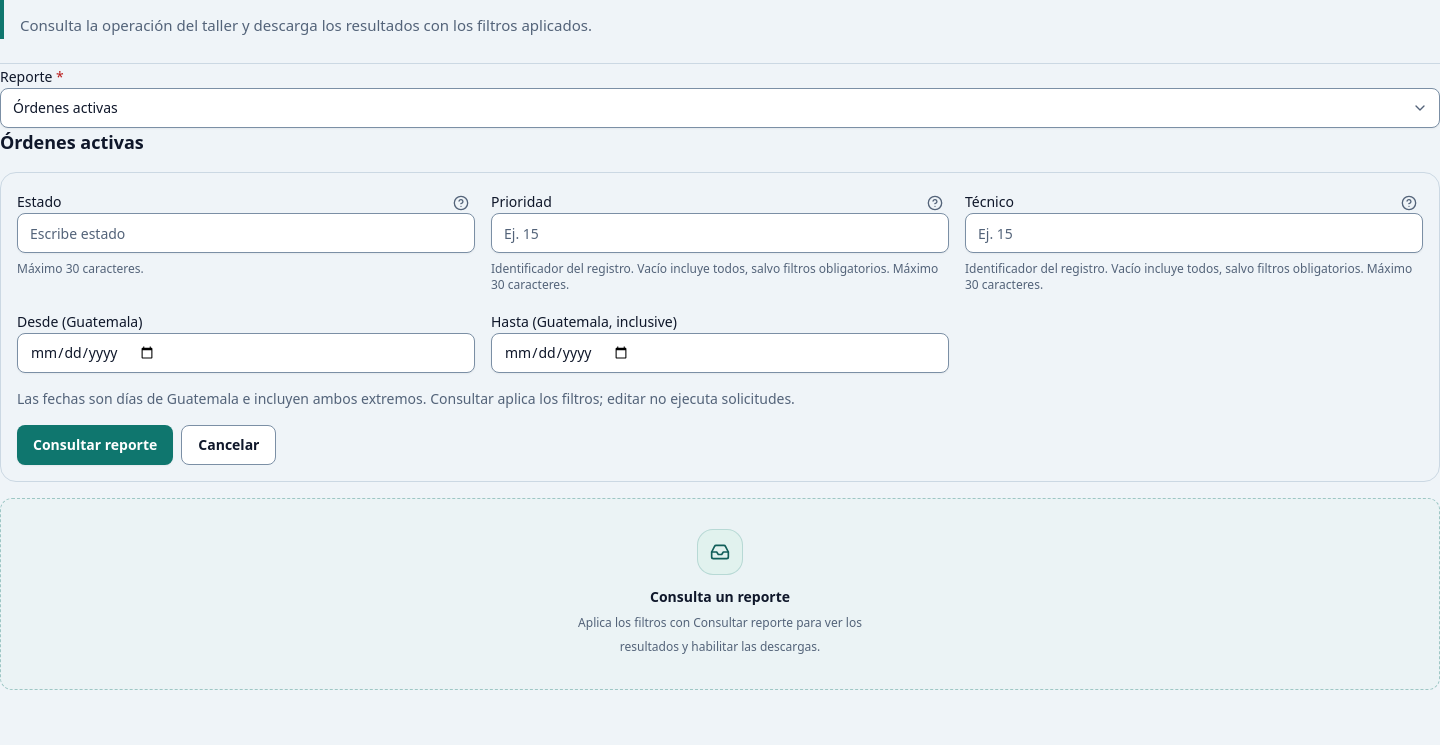
reportes conectados › conserva las relaciones anidadas reales de historial-cliente sin search
This screenshot has width=1440, height=745.
Select "Historial del cliente" in the dropdown labelled "Reporte *": (720, 108) [0,88,1439,128]
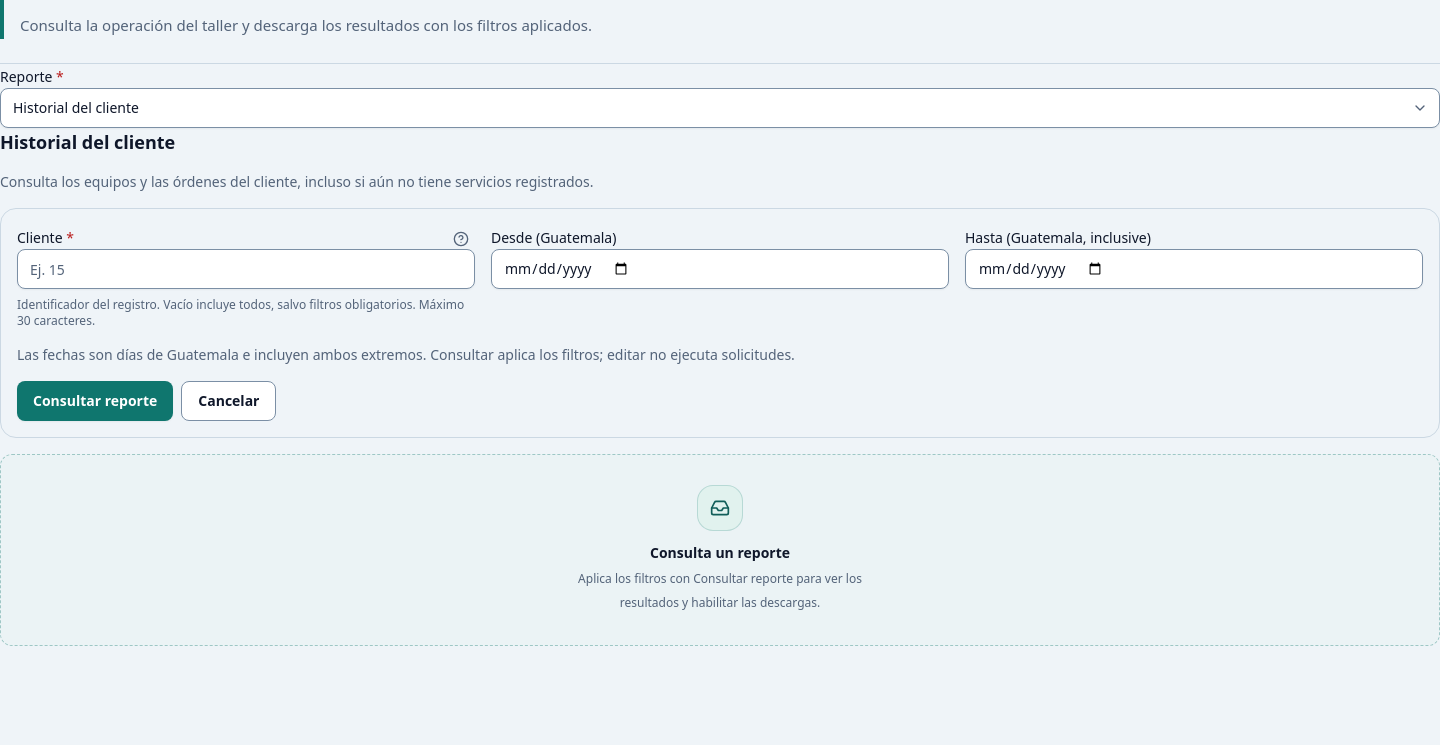
In the field labelled "Cliente *": (246, 269) [17,249,475,289], type "1"
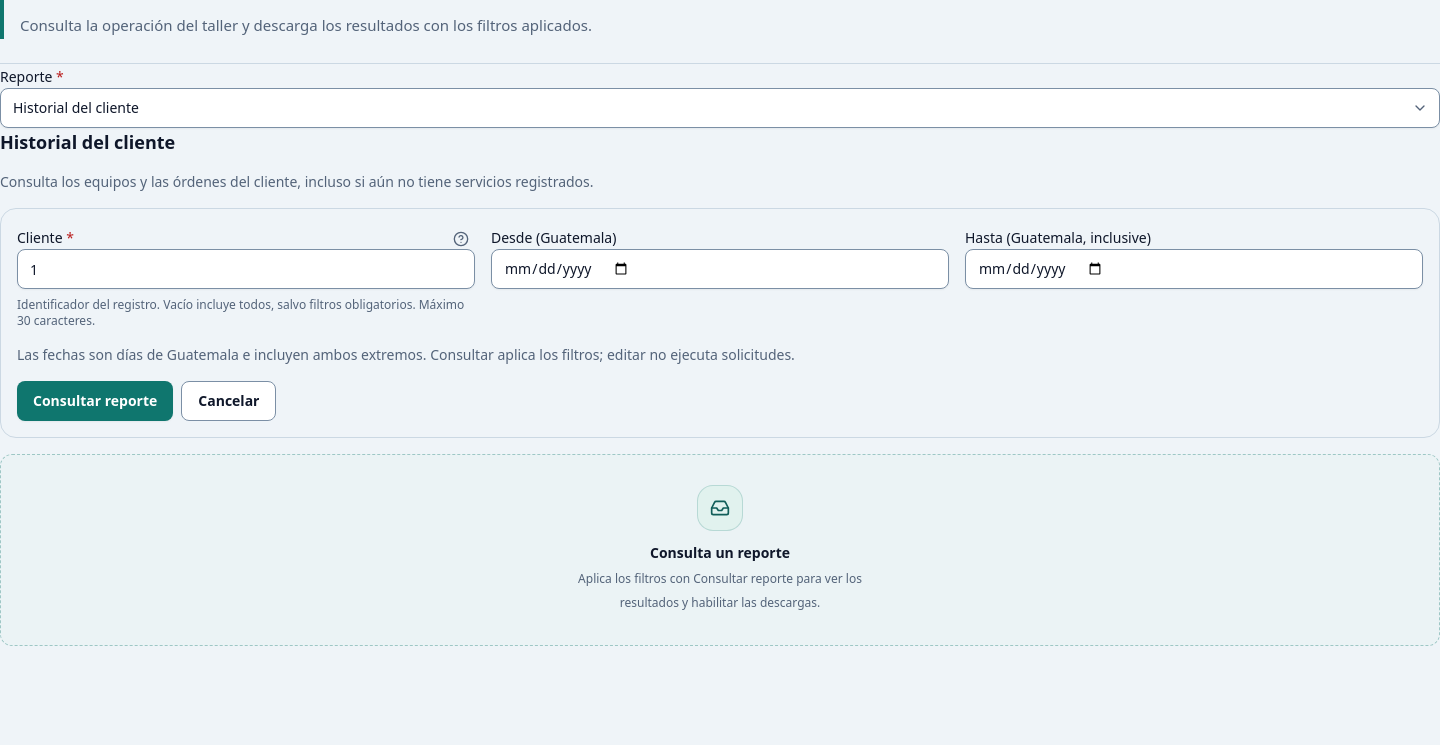
Click the button "Consultar reporte": (95, 401) [17,381,173,421]
(page scrolled)
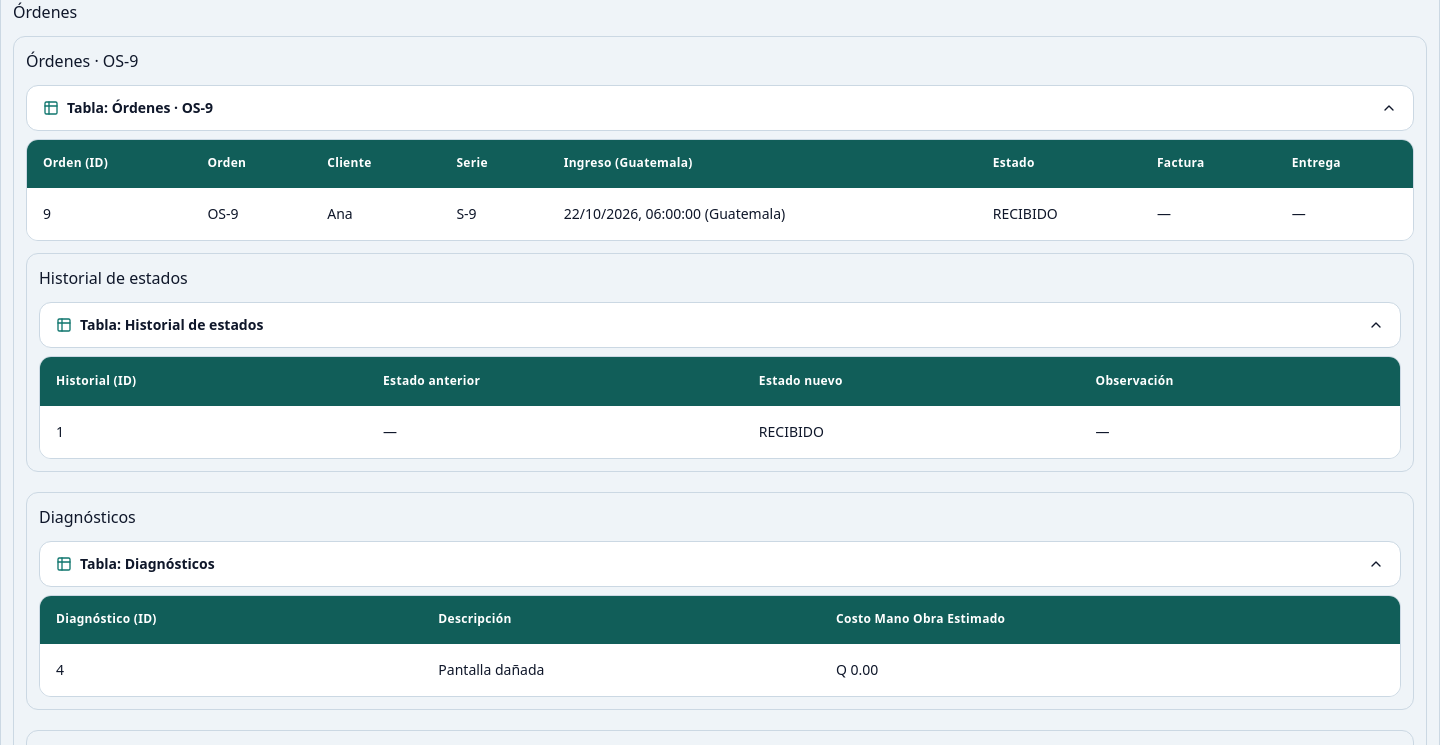
Expected: the table named "Diagnósticos" shows "Pantalla dañada", [438,660,544,679]
Expected: the table named "Historial de estados" shows "—", [383,422,397,440]
